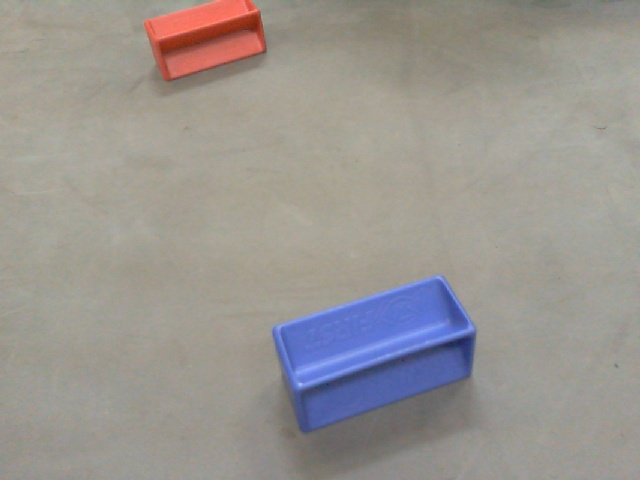BlueSample: (263, 271, 488, 437)
RedSample: (142, 1, 270, 92)
